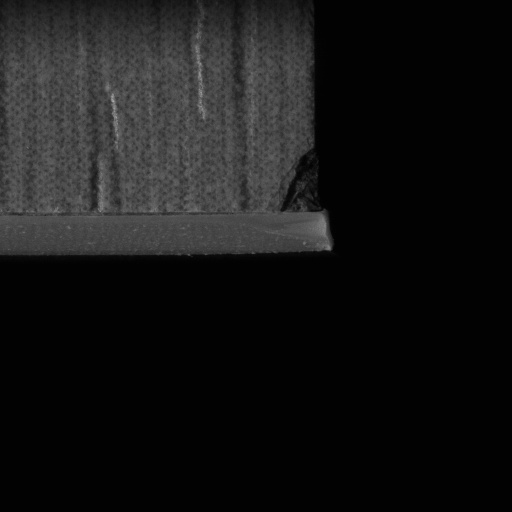bengque: (280, 149, 329, 217)
